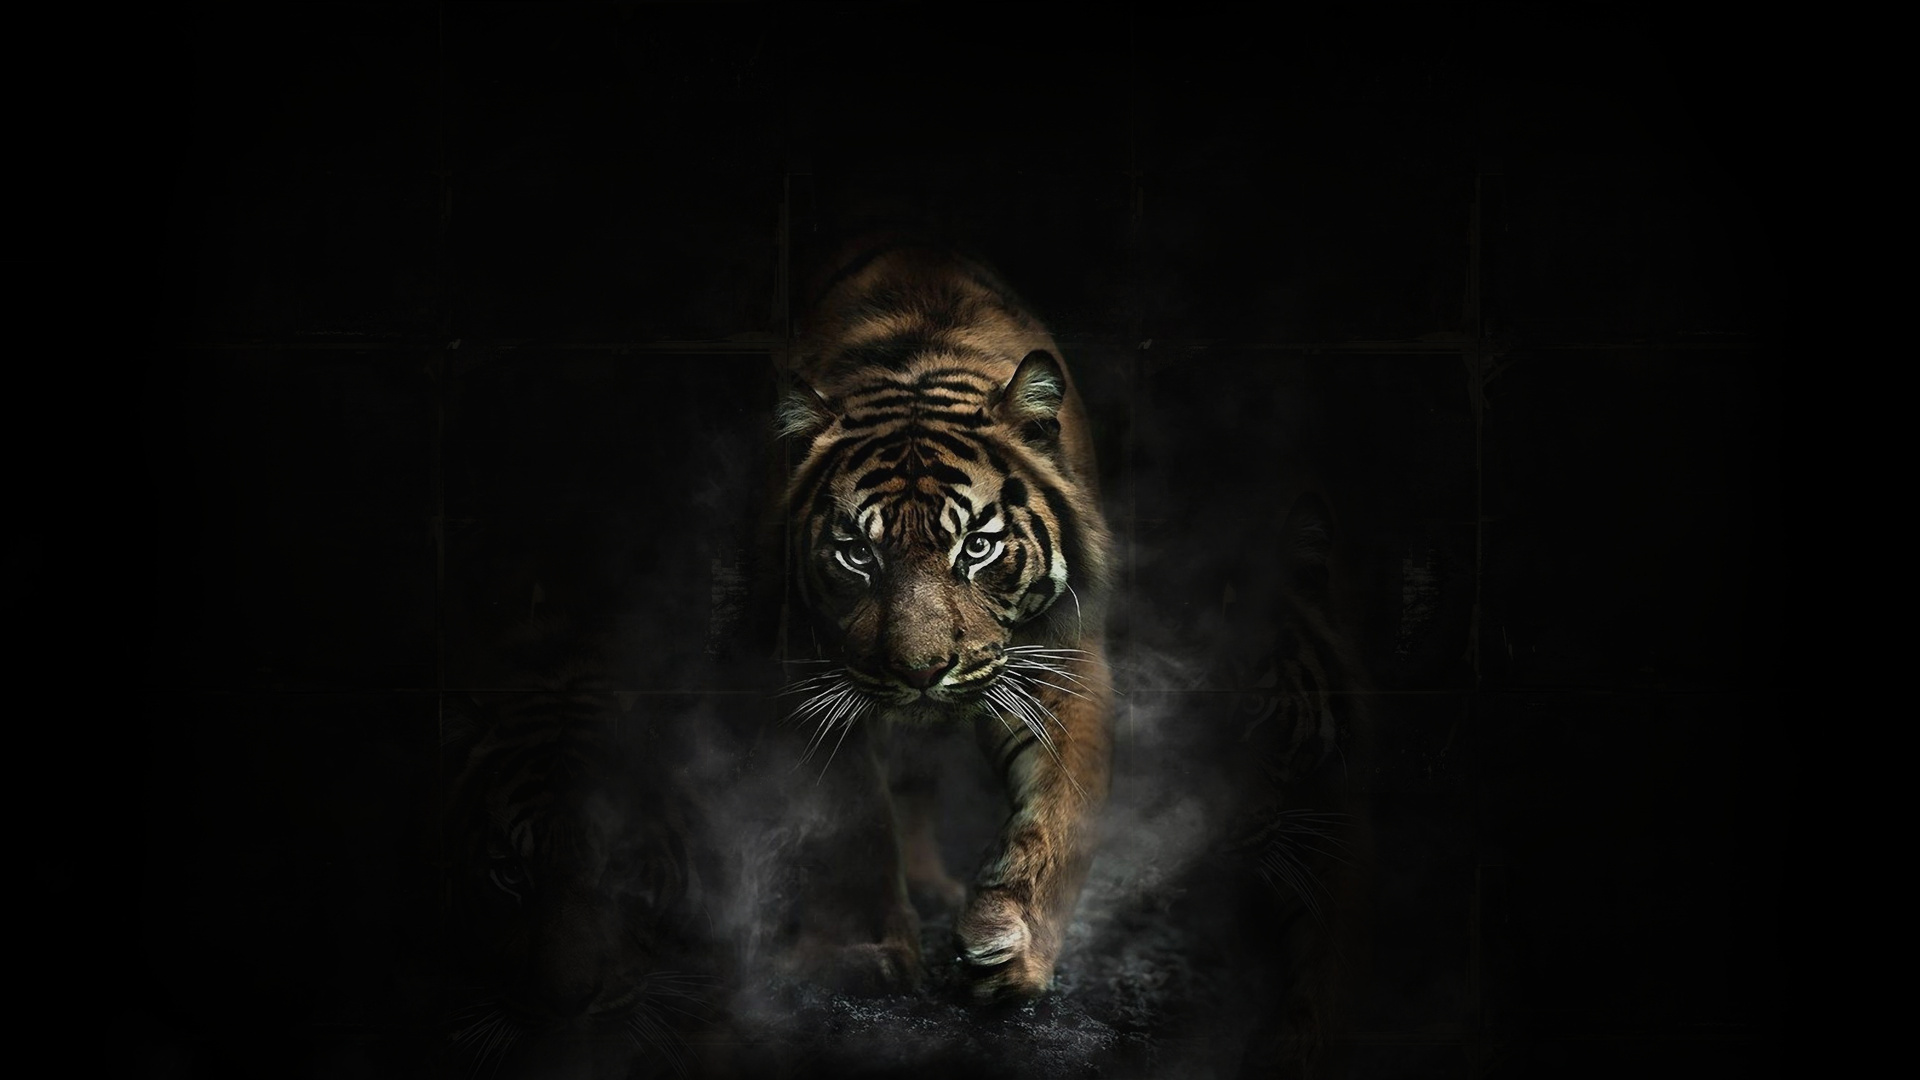Tigrew: (699, 204, 1176, 1021)
